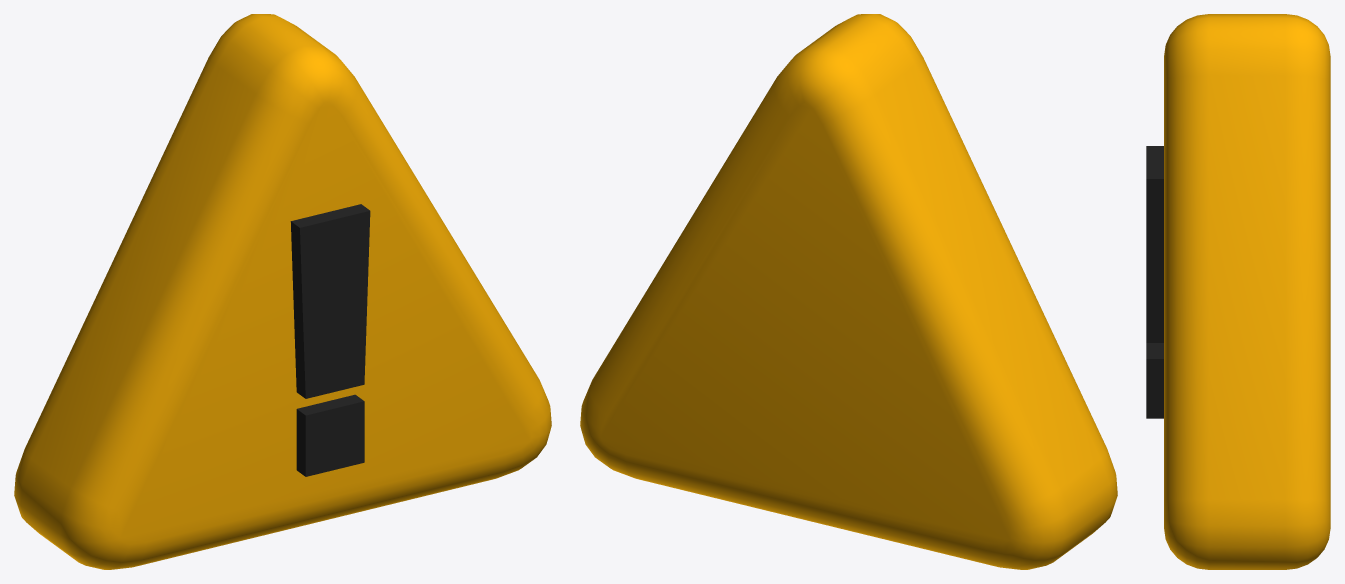
Rendered from warning.gltf.
3 views of the same model, side by side, from view 1: azimuth 30°, elevation 25°; view 2: azimuth 150°, elevation 25°; view 3: azimuth 270°, elevation 25° (orthographic). The views are drawn at different scales.
Visible parts, largest first — view 1: Cube.314; view 2: Cube.314; view 3: Cube.314.
Boxes of the visible parts, box(x1,y1,x2,y2) form: Cube.314: box(14, 14, 551, 569); Cube.314: box(580, 14, 1117, 569); Cube.314: box(1146, 14, 1330, 569).
Bounding box in the file's own units: 2.15 × 2 × 0.73.
1 material, 1 textured.
